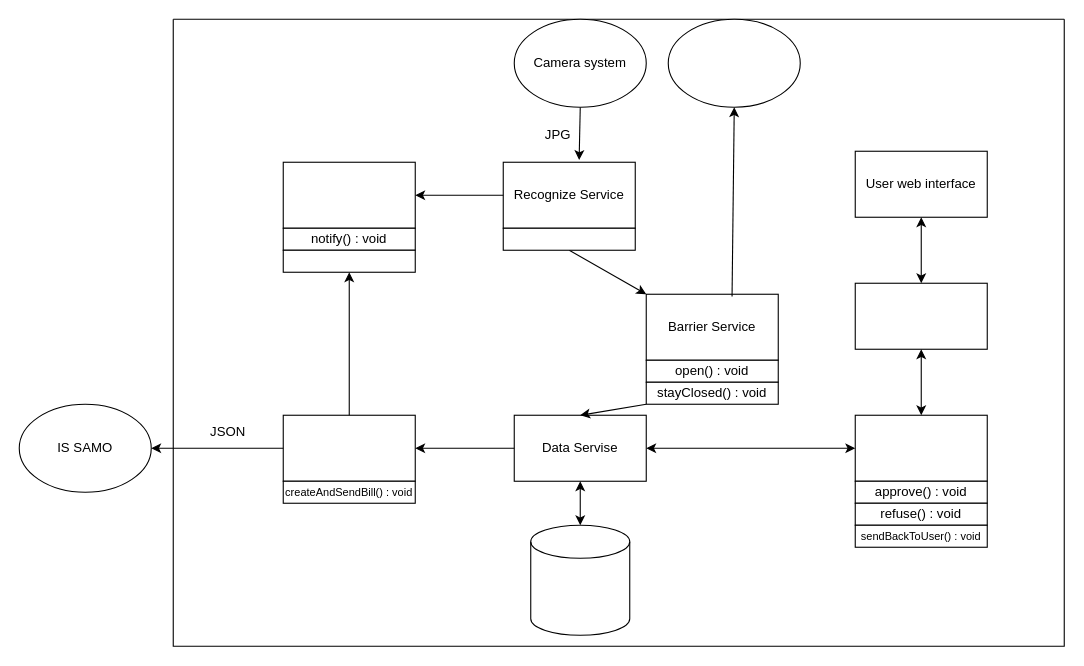
Some shapes in this 1084 by 666 pixel diagram are drawn without their labels. The centre of each missing label's shape, as x and y in pixels:
Barrier: the point at 733,62
Bill Service: the point at 348,447
Controller: the point at 920,315
Notification Service: the point at 348,194
PostgreSQL: the point at 580,579
recognize() : void: the point at 568,238
Request Service: the point at 920,447
